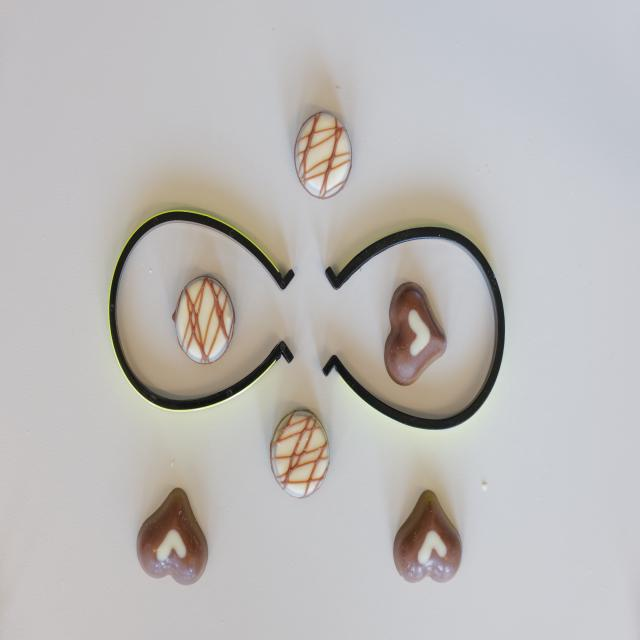Creme_brulee: (172, 274, 236, 367), (295, 110, 353, 197), (272, 410, 330, 496)
Passion_au_lait: (137, 488, 208, 585), (382, 283, 448, 386), (391, 489, 462, 584)
